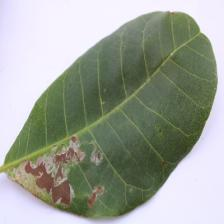leaf miner: (0, 9, 218, 219)
